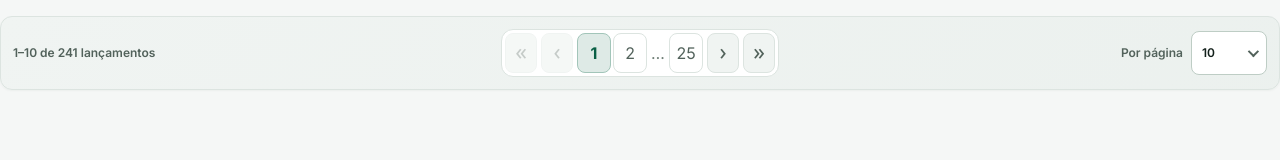
Pagination › navigates numbered pages and exposes the current page
Expected: the text "1–10 de 241 lançamentos" is shown, [13, 44, 155, 62]
Click the button named "Próxima página". click: (723, 53)
box: [707, 33, 739, 73]
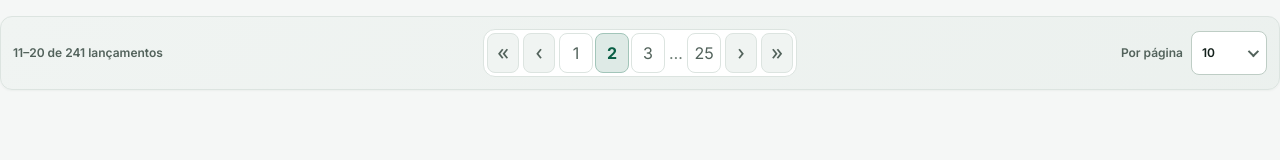
Expected: the text "11–20 de 241 lançamentos" is shown, [13, 44, 163, 62]
